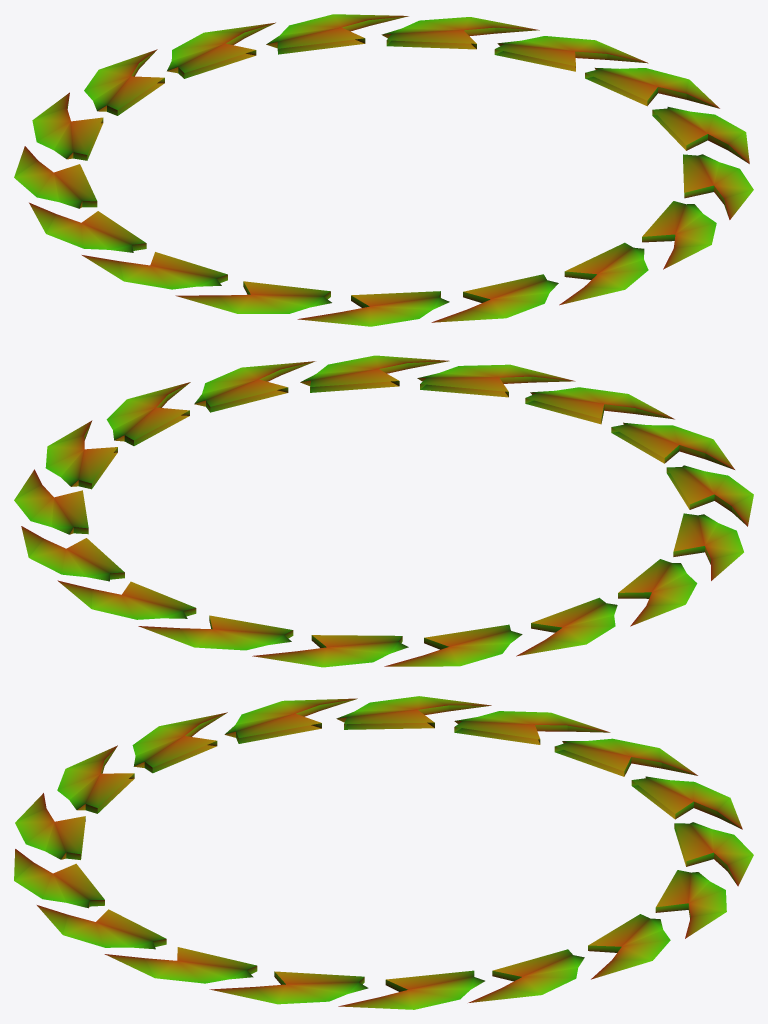
The model's file is Eff_Corin_Saw_04.fbx.
3 views of the same model, one above another, from view 1: azimuth 30°, elevation 25°; view 2: azimuth 150°, elevation 25°; view 3: azimuth 270°, elevation 25° (orthographic).
Parts seen in each view (by area): view 1: Eff_Corin_Saw_04; view 2: Eff_Corin_Saw_04; view 3: Eff_Corin_Saw_04.
Boxes of the visible parts, bbox=[...] form: Eff_Corin_Saw_04: bbox=[14, 14, 753, 326]; Eff_Corin_Saw_04: bbox=[14, 355, 753, 667]; Eff_Corin_Saw_04: bbox=[14, 696, 753, 1009].
Size of the model in its own units: 0.4959 by 0.00482 by 0.4942.
